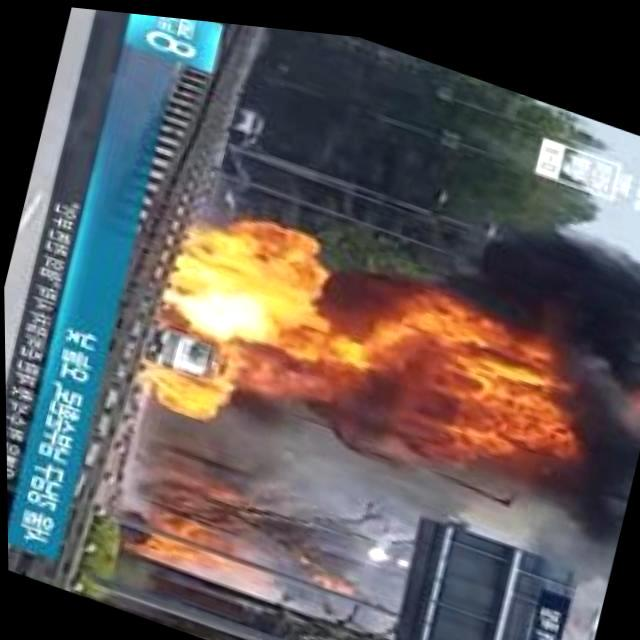fire: (144, 182, 352, 392), (133, 334, 234, 428), (136, 528, 200, 568)
